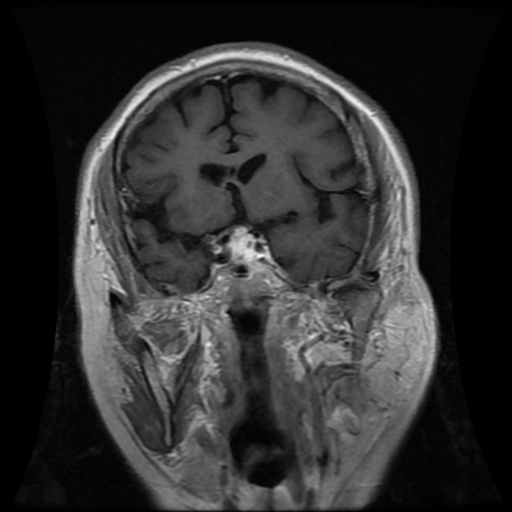pituitary: (229, 227, 254, 261)
